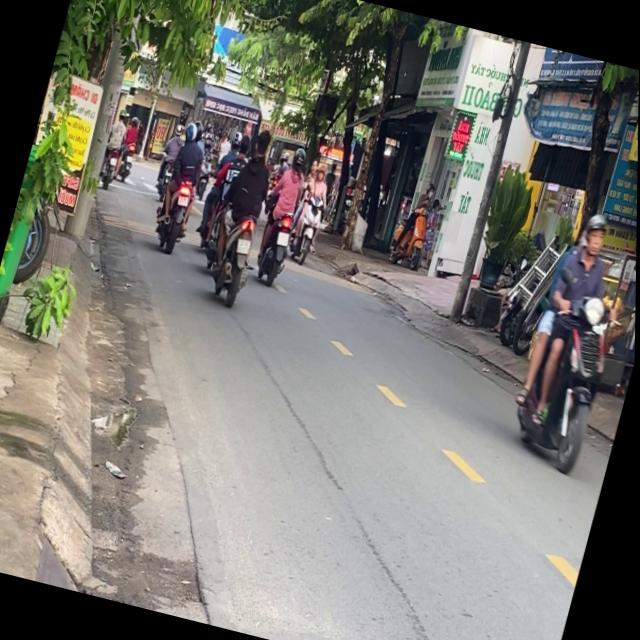helmet: (579, 210, 612, 258)
licenseplate: (496, 201, 638, 476), (200, 121, 288, 306)
motorcyclist: (252, 125, 276, 158)
nohelmet: (237, 236, 253, 254)
